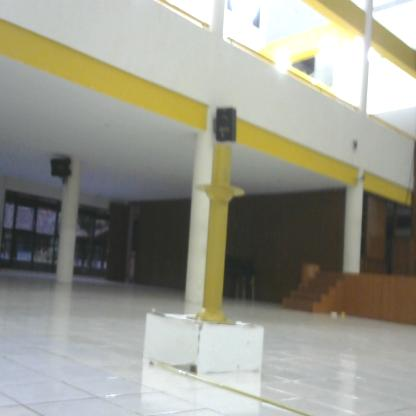pole: (188, 148, 247, 329)
